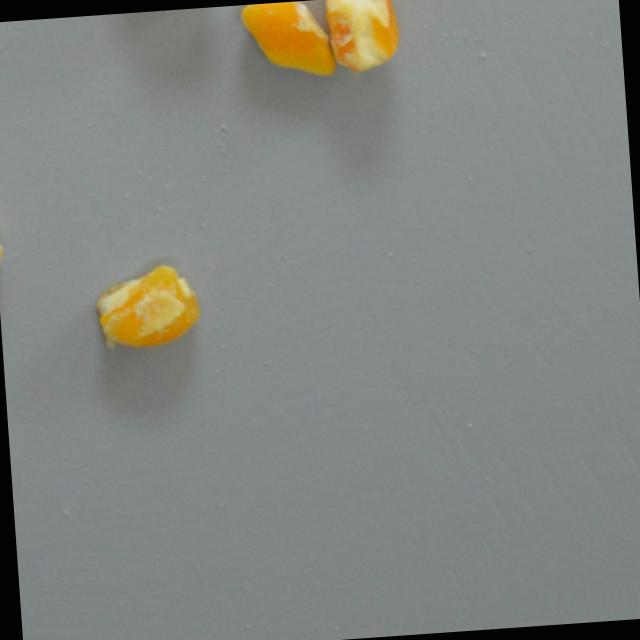dañado: (324, 0, 402, 76)
pelicula: (88, 262, 202, 357), (236, 0, 336, 82)
